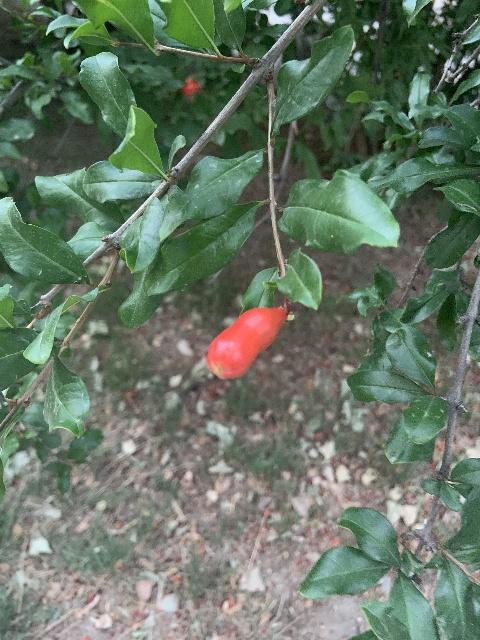bud: (207, 306, 287, 379)
